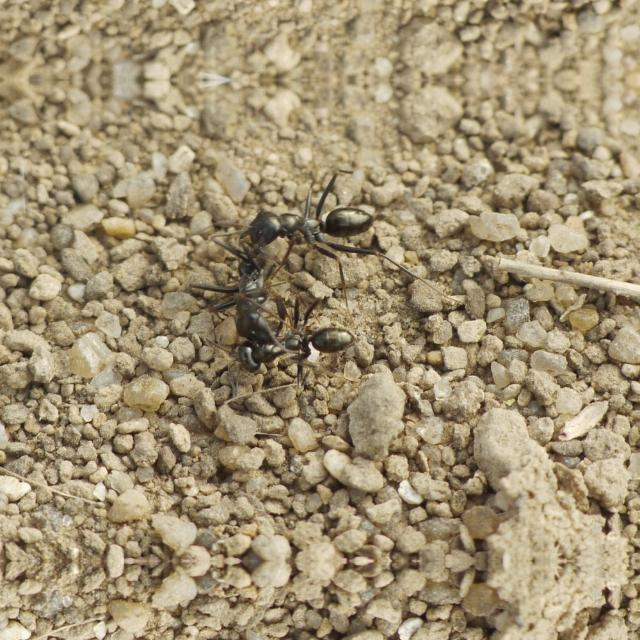Cataglyphis: (193, 195, 301, 389), (221, 178, 395, 268), (206, 306, 370, 394)
